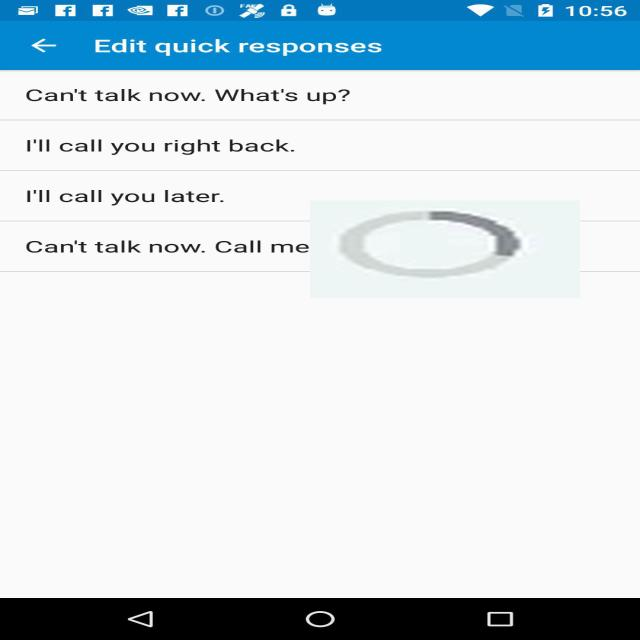misdirection: (310, 200, 580, 298)
